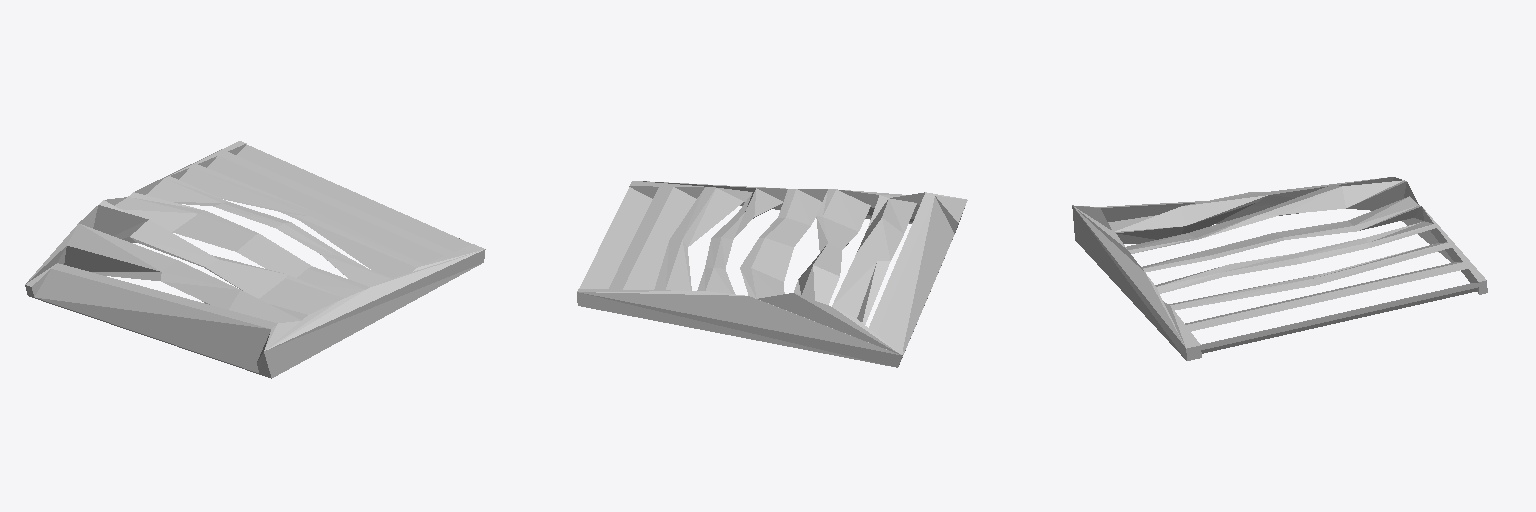
Rendered from Vent_Remove18.obj.
3 views of the same model, side by side, from view 1: azimuth 30°, elevation 25°; view 2: azimuth 150°, elevation 25°; view 3: azimuth 270°, elevation 25° (orthographic).
Parts seen in each view (by area): view 1: Vent_Grate.003; view 2: Vent_Grate.003; view 3: Vent_Grate.003.
Part boxes in pixels (left/top/right/bottom): Vent_Grate.003: left=25, top=141, right=485, bottom=378; Vent_Grate.003: left=577, top=181, right=967, bottom=367; Vent_Grate.003: left=1072, top=177, right=1487, bottom=360.
Bounding box in the file's own units: 0.8492 × 0.1439 × 0.8363.